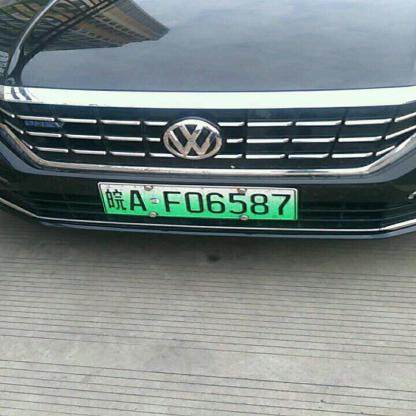lp: (98, 182, 296, 219)
